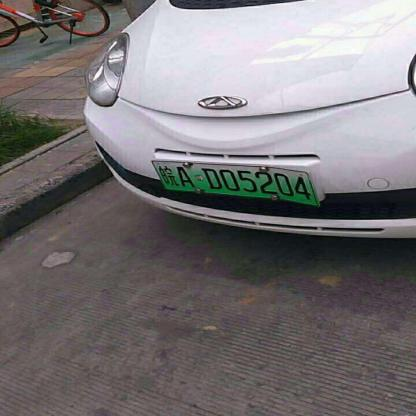lp: (152, 161, 317, 204)
